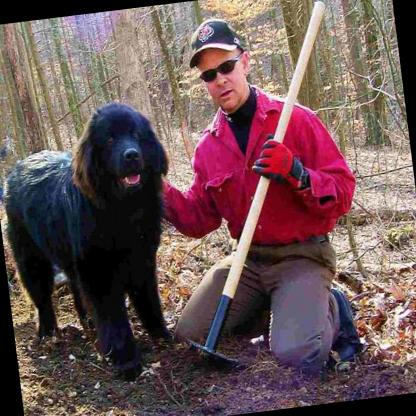Newfoundland: (0, 94, 192, 392)
